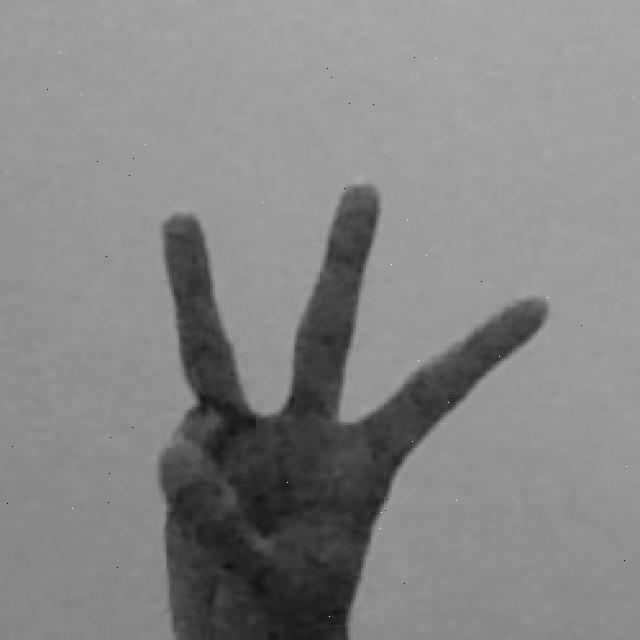W: (151, 170, 554, 640)
